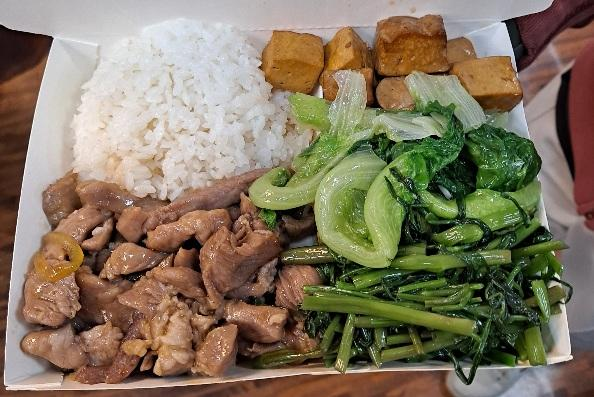big grilled chicken leg: (5, 16, 575, 388)
big herbal chicken leg: (71, 23, 296, 192)
braised fish fillet: (307, 229, 560, 362), (289, 113, 534, 227), (268, 18, 509, 114)
braised pork: (27, 181, 322, 367)
